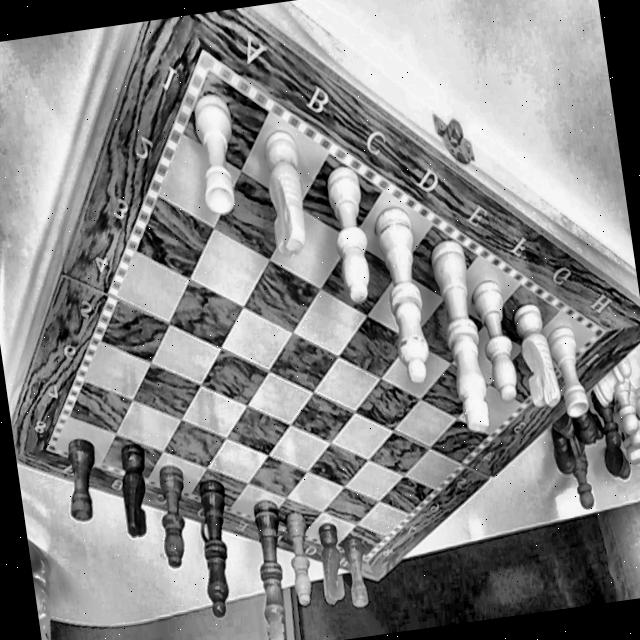black-bishop: (147, 450, 202, 580), (278, 496, 322, 612)
black-king: (241, 483, 298, 640)
black-knight: (108, 440, 156, 540), (312, 516, 352, 608)
black-queen: (188, 456, 244, 624)
black-rook: (52, 404, 112, 532), (340, 530, 381, 618)
white-bishop: (317, 132, 385, 322), (473, 255, 527, 405)
white-king: (428, 210, 499, 454)
white-knight: (256, 109, 320, 268), (514, 291, 564, 418)
white-queen: (368, 168, 448, 398)
white-rook: (180, 87, 256, 226), (550, 314, 596, 419)
